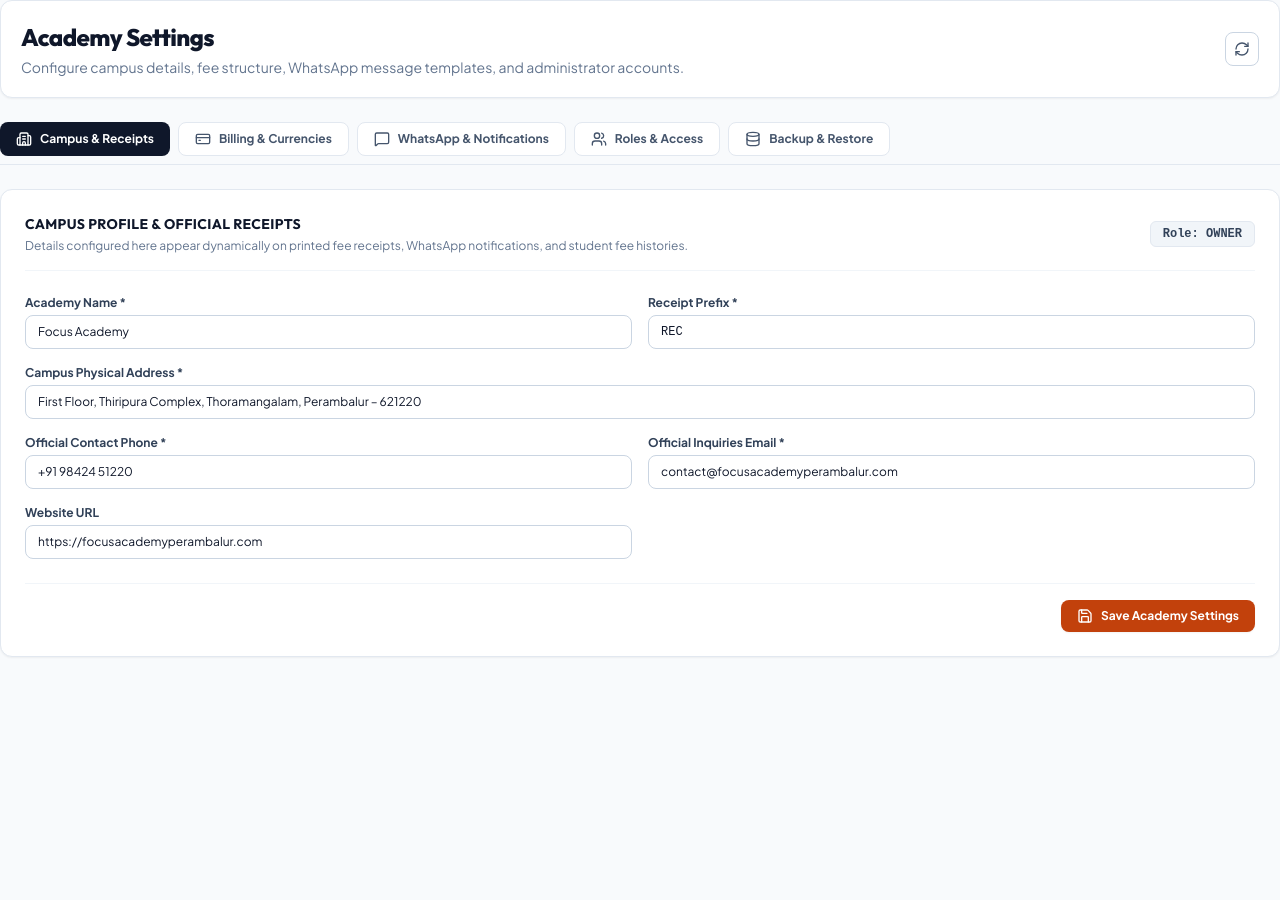
Admin Portal Pages & Routing Integrity › renders AdminSettingsPage roles tab with Add Administrator action and delete controls
Expected: the text "Roles & Access" is shown, [615,131,703,147]
Click the button "Roles & Access". click: {"x": 647, "y": 139}
box: [574,122,720,156]
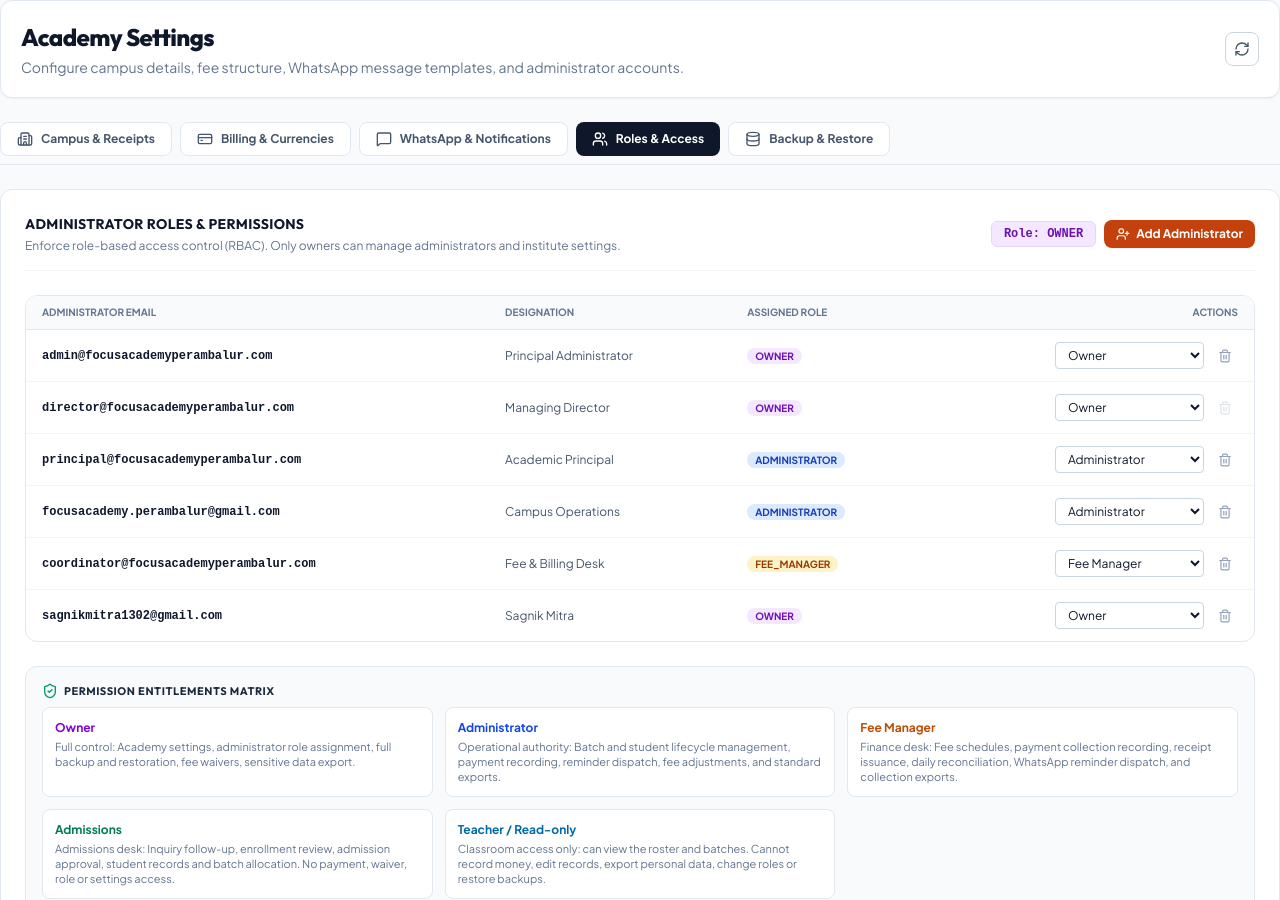
Expected: the heading "Administrator Roles & Permissions" is shown, [25,215,304,233]
Expected: the text "Add Administrator" is shown, [1136,226,1243,242]
Click the button "Add Administrator". click: {"x": 1180, "y": 234}
box: [1104,220,1255,248]
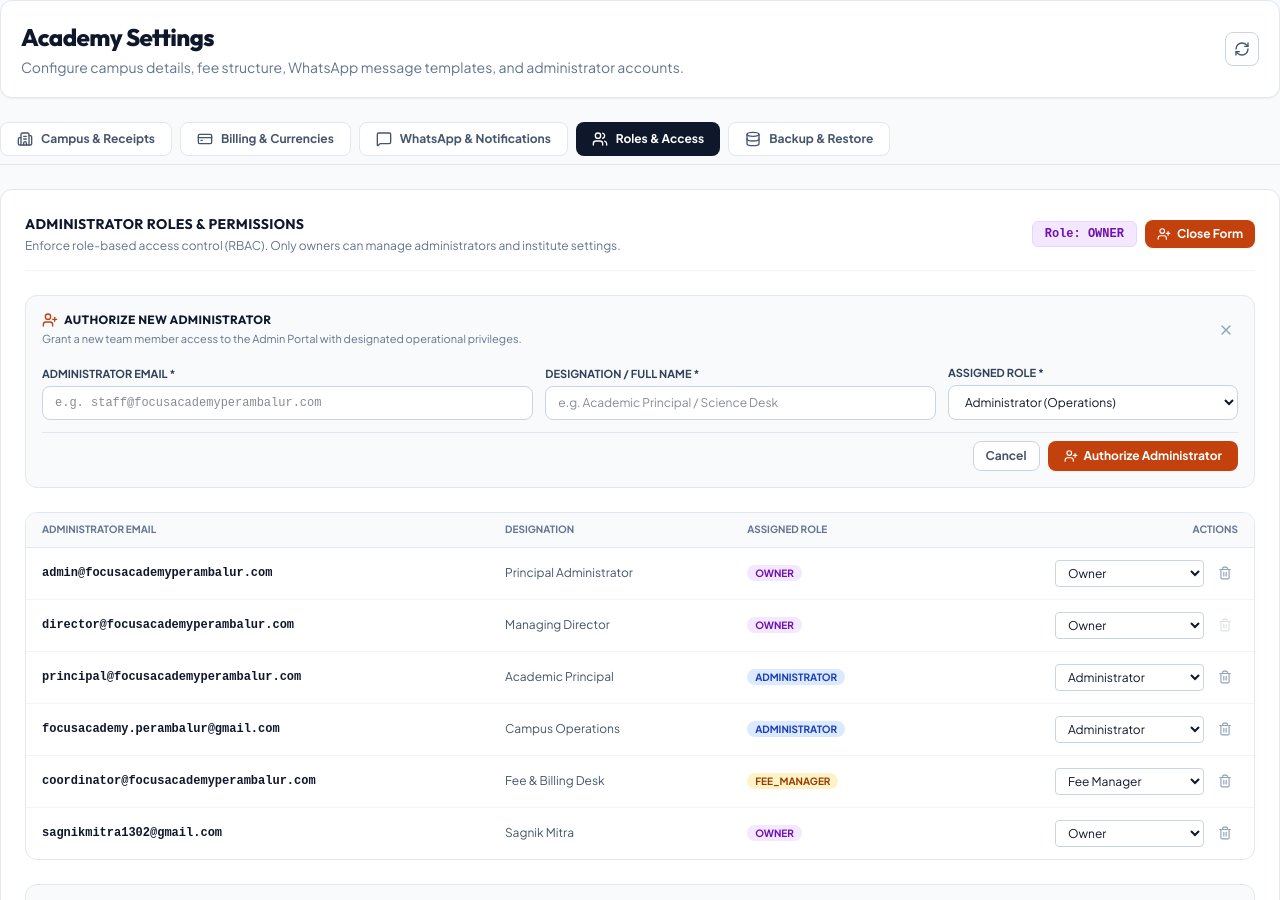
Expected: the text "Authorize New Administrator" is shown, [64,312,271,328]
Expected: the field with placeholder "e.g. staff@focusacademyperambalur.com" is shown, [42,386,533,420]
